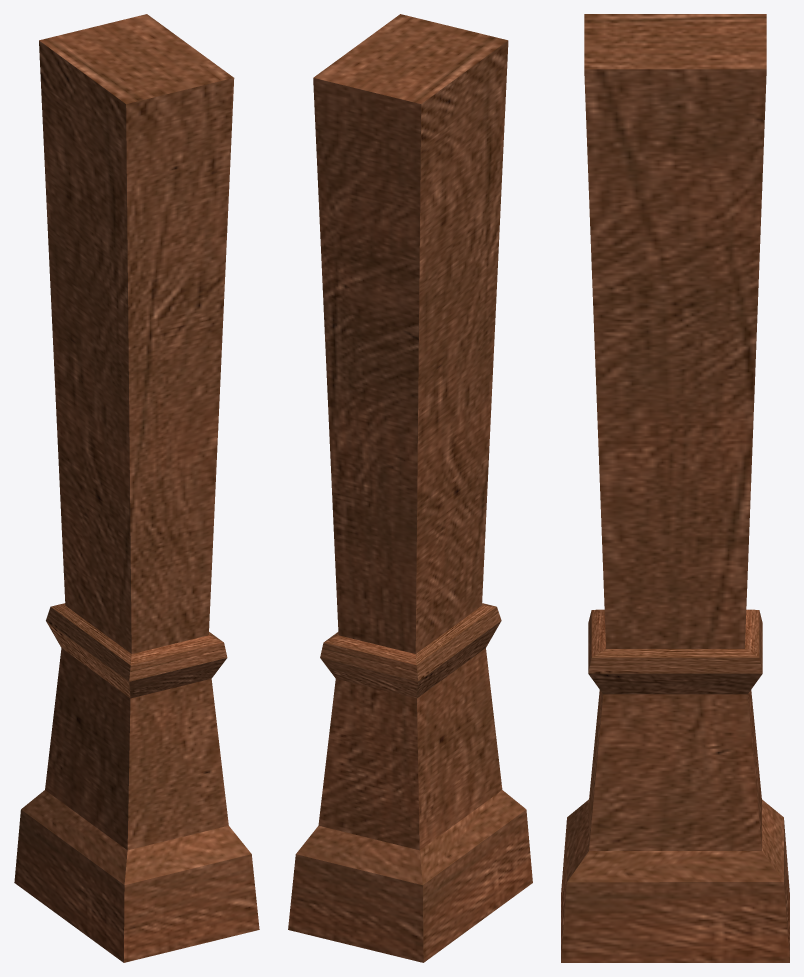
File: fanasty_mod_house_beam02.fbx
The picture shows the model from 3 angles, left to right: view 1: azimuth 30°, elevation 25°; view 2: azimuth 150°, elevation 25°; view 3: azimuth 270°, elevation 25°; orthographic projection. The views are drawn at different scales.
Visible parts, largest first — view 1: house_beam_02; view 2: house_beam_02; view 3: house_beam_02.
Boxes of the visible parts, left/top/right/bottom form: house_beam_02: left=14, top=14, right=259, bottom=962; house_beam_02: left=288, top=14, right=532, bottom=962; house_beam_02: left=561, top=14, right=789, bottom=962.
Size of the model in its own units: 0.6135 by 3.66 by 0.8563.
